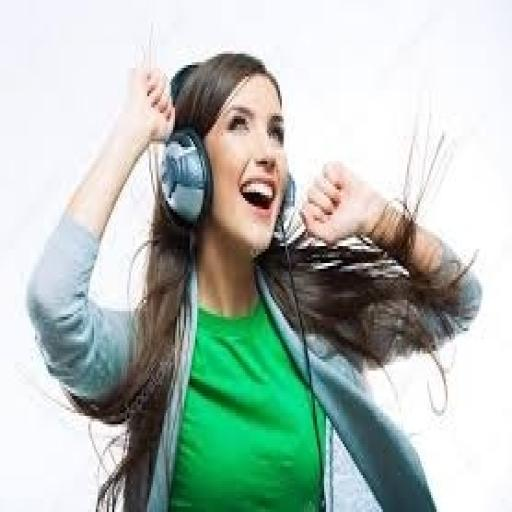listening_to_music: (24, 48, 484, 509)
